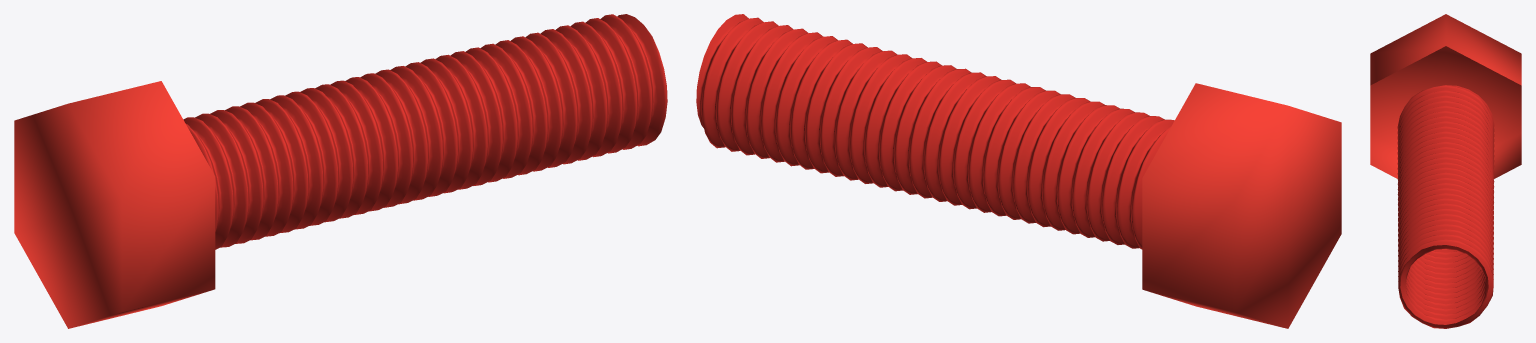
Rendered from hex_bolt_24mm.glb.
The picture shows the model from 3 angles, left to right: view 1: azimuth 30°, elevation 25°; view 2: azimuth 150°, elevation 25°; view 3: azimuth 270°, elevation 25°; orthographic projection. The views are drawn at different scales.
Bounding box in the file's own units: 0.1137 × 0.0432 × 0.0374.
